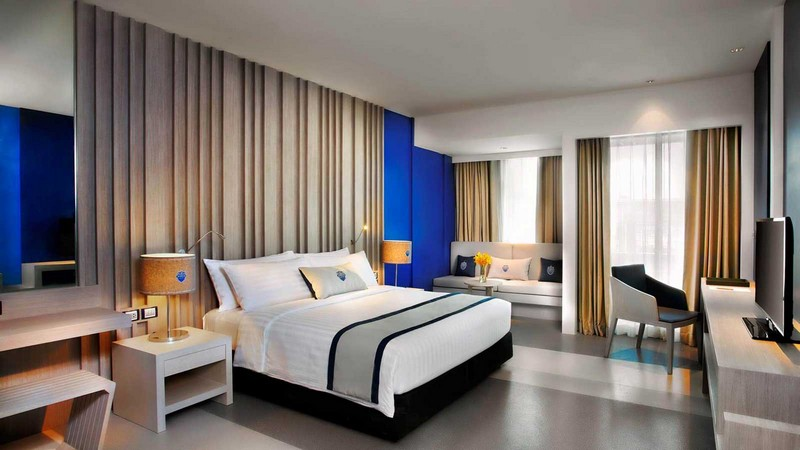bed: (201, 247, 514, 440)
chair: (604, 257, 703, 381)
lamp: (138, 250, 197, 344), (381, 236, 413, 286)
sofa: (434, 238, 568, 320)
stool: (111, 324, 234, 431)
